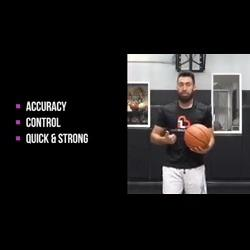BasketBall: (125, 51, 249, 195), (182, 121, 214, 154)
